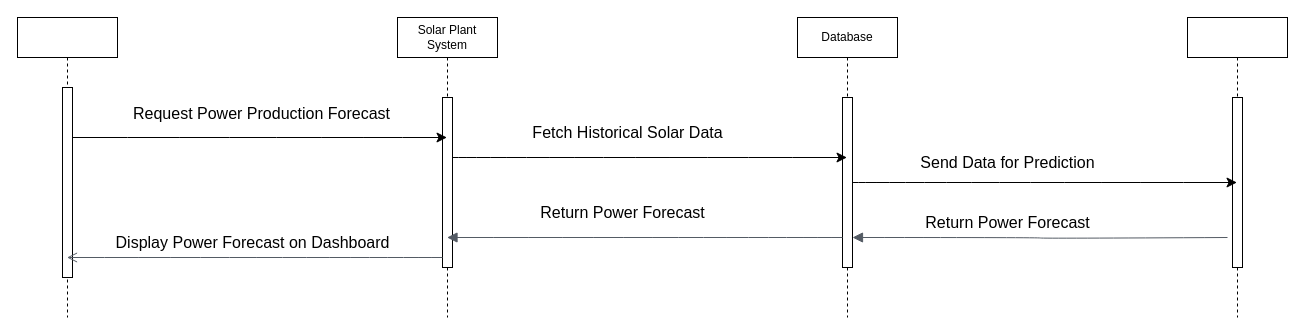
The diagram is 1305 pixels wide and 335 high, and some of its shapes have lost their labels. Each missing label, with the box of its shape:
Machine Learning Model: (1186, 16, 1288, 318)
User: (16, 16, 118, 318)
